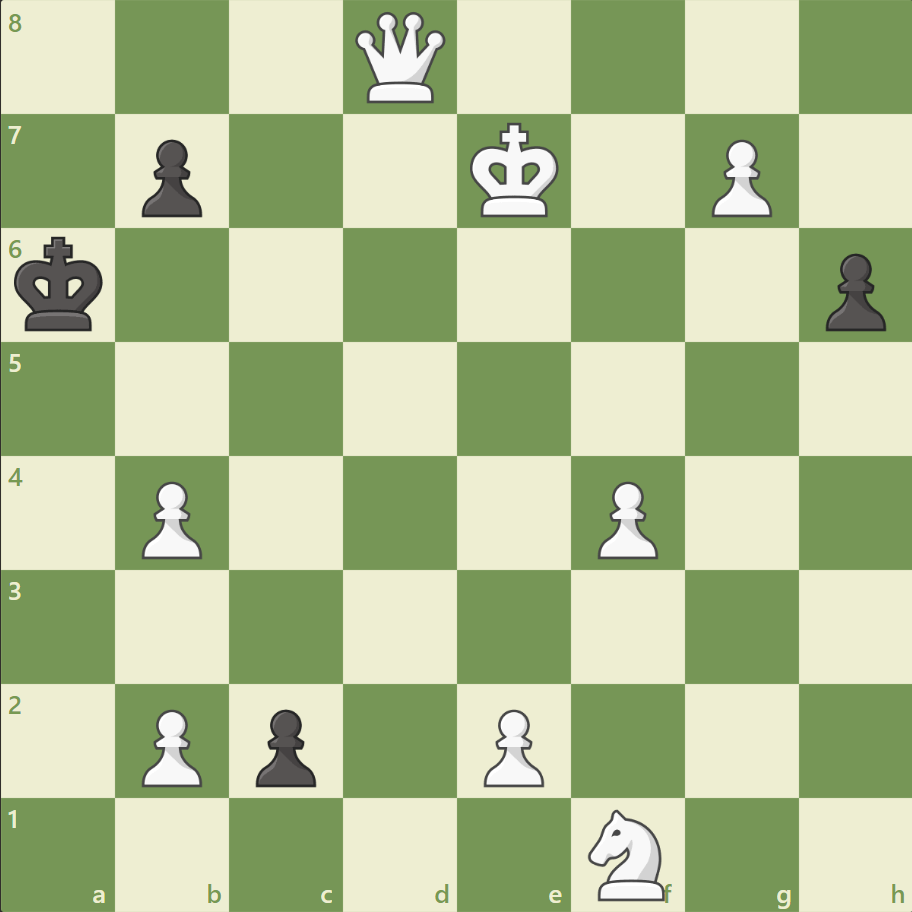K: (465, 117, 565, 225)
N: (579, 802, 676, 904)
P: (701, 132, 776, 223), (133, 473, 208, 564), (133, 700, 208, 791), (474, 700, 549, 791), (588, 473, 662, 564)
Q: (351, 9, 450, 108)
k: (11, 231, 111, 339)
p: (133, 132, 208, 223), (247, 700, 322, 791), (815, 246, 889, 337)
